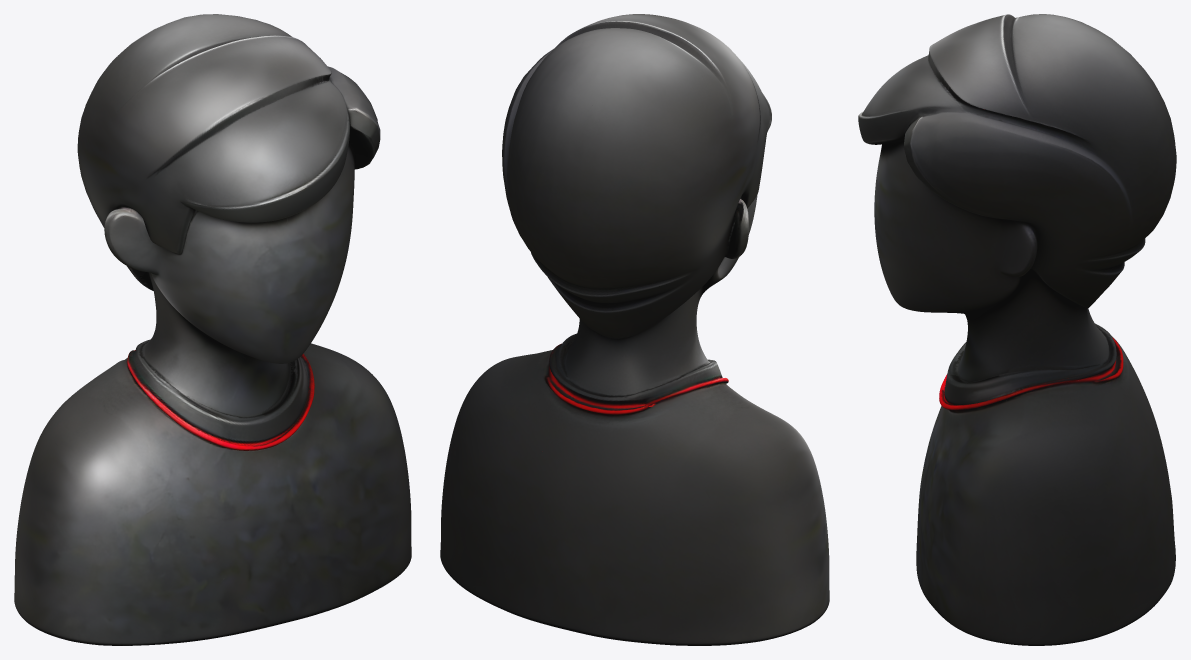
File: base_basic_shaded.glb
3 renders of one model, left to right at view 1: azimuth 30°, elevation 25°; view 2: azimuth 150°, elevation 25°; view 3: azimuth 270°, elevation 25°, orthographic. The views are drawn at different scales.
Visible parts, largest first — view 1: model; view 2: model; view 3: model.
Part boxes in pixels (x1,y1,x2,y2): model: (14,14,411,645); model: (440,14,829,645); model: (858,14,1176,645).
Size of the model in its own units: 1.33 by 1.9 by 1.03.
Materials: 1 (1 with a texture image).
